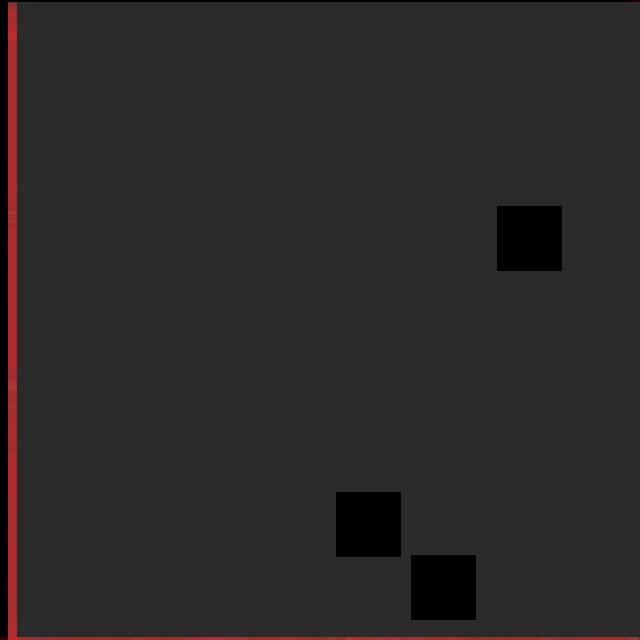fire: (8, 2, 640, 640)
